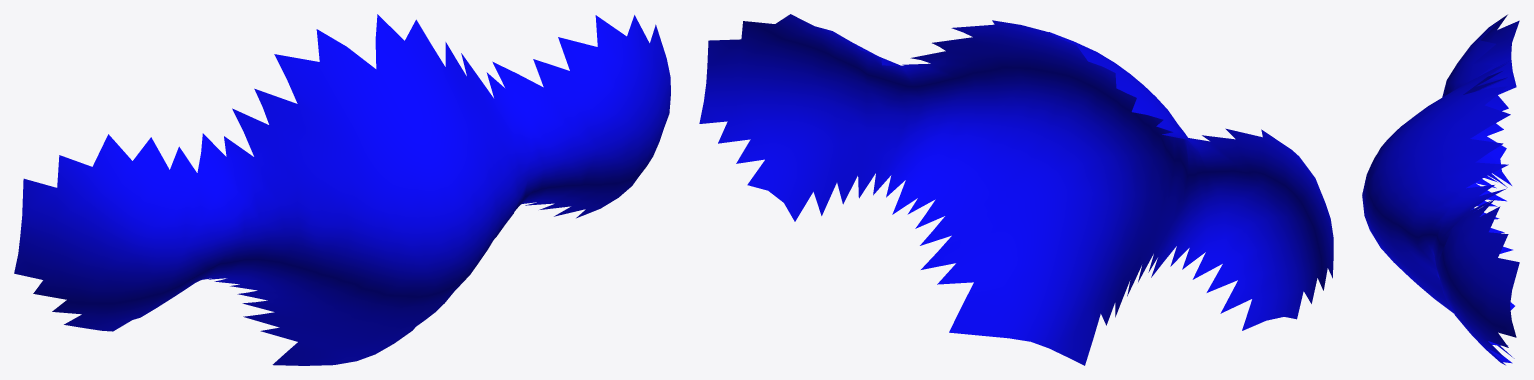
File: blob2_opt_final3.obj
The picture shows the model from 3 angles, left to right: view 1: azimuth 30°, elevation 25°; view 2: azimuth 150°, elevation 25°; view 3: azimuth 270°, elevation 25°; orthographic projection. The views are drawn at different scales.
Size of the model in its own units: 39.78 by 19.3 by 10.58.
